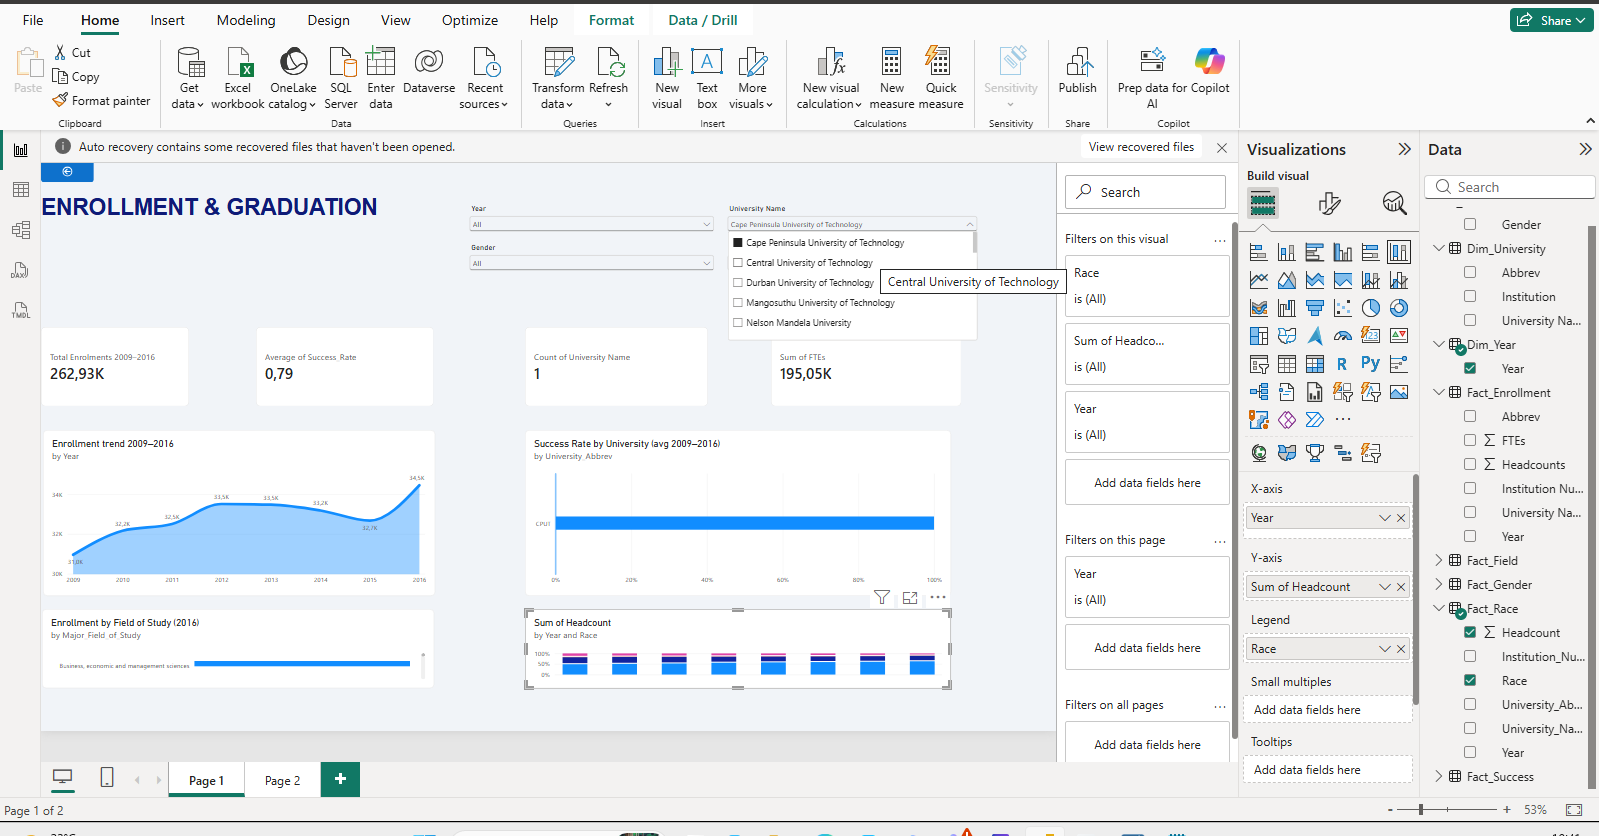

Layout of this report page (visuals, bound fields, positions):
{"tool":"powerbi","page":{"name":"Page 1","canvas":[1920,1080],"ordinal":0},"visuals":[{"type":"lineChart","fields":{"Category":["Dim_Year.Year"],"Y":["Sum(Fact_Enrollment.Headcounts)"]},"box":[4,508,742,314],"z":0},{"type":"clusteredBarChart","fields":{"Category":["Fact_Success.University_Abbrev"],"Y":["Sum(Fact_Success.Success_Rate)"]},"box":[916,508,806,314],"z":1000},{"type":"actionButton","box":[0,0,100,40],"z":2000},{"type":"textbox","box":[0,62,742,80],"z":3000},{"type":"slicer","fields":{"Values":["Dim_Year.Year"]},"box":[806,82,472,60],"z":4000},{"type":"slicer","fields":{"Values":["Dim_University.University Name"]},"box":[1294,82,482,60],"z":5000},{"type":"cardVisual","fields":{"Data":["Sum(Fact_Enrollment.Headcounts)"]},"box":[0,313.3,280,150],"z":6000},{"type":"cardVisual","fields":{"Data":["Sum(Fact_Enrollment.FTEs)"]},"box":[1380,314,360,150],"z":7000},{"type":"cardVisual","fields":{"Data":["Avg(Fact_Success.Success_Rate)"]},"box":[406,314,336,150],"z":8000},{"type":"cardVisual","fields":{"Data":["Count(Dim_University.University Name)"]},"box":[916,314,346,150],"z":9000},{"type":"hundredPercentStackedColumnChart","fields":{"Category":["Dim_Year.Year"],"Series":["Fact_Race.Race"],"Y":["Sum(Fact_Race.Headcount)"]},"box":[916,848,806,150],"z":10000},{"type":"clusteredBarChart","fields":{"Category":["Fact_Field.Major_Field_of_Study"],"Y":["Sum(Fact_Field.Enrolment_Count)"]},"box":[1.7,848.3,742,150],"z":11000},{"type":"slicer","fields":{"Values":["Fact_Gender.Gender"]},"box":[806,156,472,74],"z":12000},{"type":"slicer","fields":{"Values":["Fact_Race.Race"]},"box":[1294,156,482,74],"z":13000},{"type":"slicer","fields":{"Values":["Fact_Field.Major_Field_of_Study"]},"box":[1546,210,230,88],"z":14000}]}

Visuals, with their boxes on the page's 1920x1080 design canvas (x1, y1, x2, y2). These are canvas units, not pixel positions in the 1599x836 screenshot, which may show the page scaled, cropped or inside an application window:
lineChart - Dim_Year.Year x Sum(Fact_Enrollment.Headcounts): (4,508,746,822)
clusteredBarChart - Fact_Success.University_Abbrev x Sum(Fact_Success.Success_Rate): (916,508,1722,822)
actionButton: (0,0,100,40)
textbox: (0,62,742,142)
slicer - Dim_Year.Year: (806,82,1278,142)
slicer - Dim_University.University Name: (1294,82,1776,142)
cardVisual - Sum(Fact_Enrollment.Headcounts): (0,313,280,463)
cardVisual - Sum(Fact_Enrollment.FTEs): (1380,314,1740,464)
cardVisual - Avg(Fact_Success.Success_Rate): (406,314,742,464)
cardVisual - Count(Dim_University.University Name): (916,314,1262,464)
hundredPercentStackedColumnChart - Dim_Year.Year x Fact_Race.Race: (916,848,1722,998)
clusteredBarChart - Fact_Field.Major_Field_of_Study x Sum(Fact_Field.Enrolment_Count): (2,848,744,998)
slicer - Fact_Gender.Gender: (806,156,1278,230)
slicer - Fact_Race.Race: (1294,156,1776,230)
slicer - Fact_Field.Major_Field_of_Study: (1546,210,1776,298)
